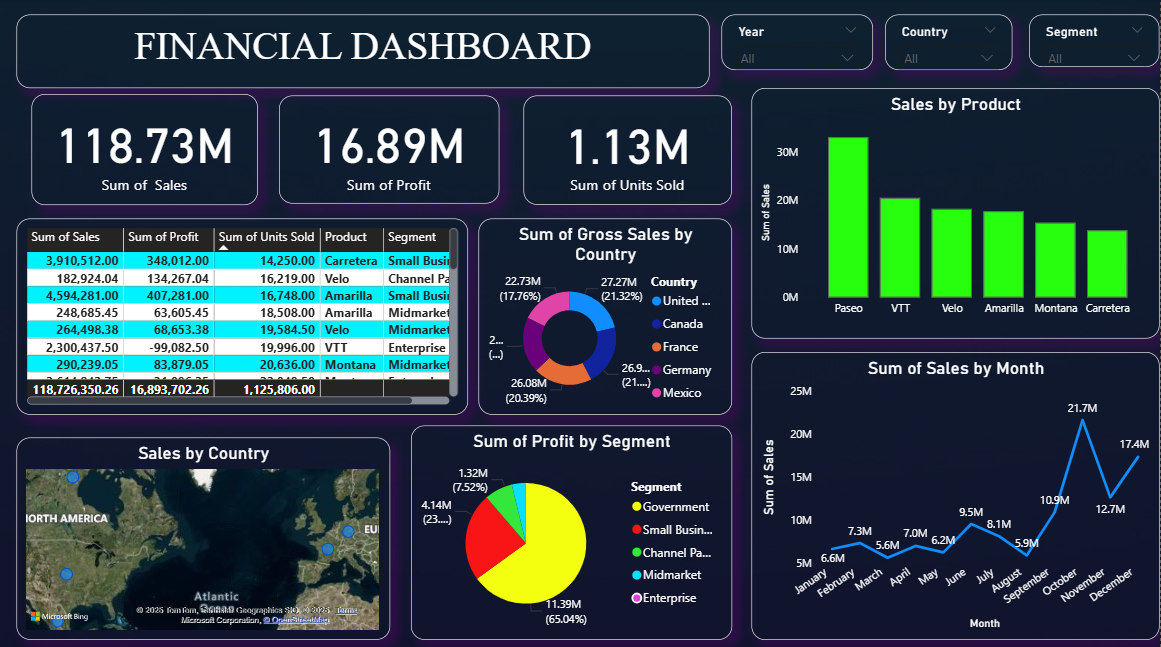

What the dashboard file says about the page in this screenshot:
{"tool":"powerbi","page":{"name":"Page 1","canvas":[1280,720],"ordinal":0},"visuals":[{"type":"textbox","box":[18.2,18.2,765.3,81.2],"z":0},{"type":"card","fields":{"Values":["Sum(financials. Sales)"]},"box":[34.8,106,250.1,122.6],"z":1000},{"type":"card","fields":{"Values":["Sum(financials.Profit)"]},"box":[308.1,107.7,243.5,119.3],"z":2000},{"type":"card","fields":{"Values":["Sum(financials.Units Sold)"]},"box":[578.1,107.7,230.3,120.9],"z":3000},{"type":"clusteredColumnChart","title":"Sales by Product","fields":{"Y":["Sum(financials. Sales)"],"Category":["financials.Product"]},"box":[829.9,99.4,450.6,276.6],"z":4000},{"type":"lineChart","fields":{"Y":["Sum(financials. Sales)"],"Category":["financials.Date.Variation.Date Hierarchy.Month"]},"box":[829.9,390.9,450.6,318],"z":5000},{"type":"pieChart","fields":{"Y":["Sum(financials.Profit)"],"Category":["financials.Segment"]},"box":[453.9,472.1,354.5,236.9],"z":6000},{"type":"map","title":"Sales by Country","fields":{"Size":["Sum(financials. Sales)"],"Category":["financials.Country"]},"box":[18.2,485.3,412.5,223.6],"z":7000},{"type":"tableEx","fields":{"Values":["Sum(financials. Sales)","Sum(financials.Profit)","Sum(financials.Units Sold)","financials.Product","financials.Segment"]},"box":[18.2,243.5,498.6,217],"z":8000},{"type":"slicer","fields":{"Values":["financials.Year"]},"box":[796.8,18.2,167.3,61.3],"z":9000},{"type":"slicer","fields":{"Values":["financials.Country"]},"box":[977.3,18.2,140.8,61.3],"z":10000},{"type":"slicer","fields":{"Values":["financials.Segment"]},"box":[1136.3,18.2,144.1,58],"z":11000},{"type":"donutChart","fields":{"Y":["Sum(financials.Gross Sales)"],"Category":["financials.Country"]},"box":[528.4,243.5,279.9,217],"z":12000}]}

Visuals, with their boxes in screenshot pixels (x1, y1, x2, y2), scaled from the page's 1280x720 canvas onto the 1161x647 screenshot:
textbox: [x1=17, y1=16, x2=711, y2=89]
card - Sum(financials. Sales): [x1=32, y1=95, x2=258, y2=205]
card - Sum(financials.Profit): [x1=279, y1=97, x2=500, y2=204]
card - Sum(financials.Units Sold): [x1=524, y1=97, x2=733, y2=205]
"Sales by Product" clusteredColumnChart: [x1=753, y1=89, x2=1160, y2=338]
lineChart - Sum(financials. Sales) x financials.Date.Variation.Date Hierarchy.Month: [x1=753, y1=351, x2=1160, y2=637]
pieChart - Sum(financials.Profit) x financials.Segment: [x1=412, y1=424, x2=733, y2=637]
"Sales by Country" map: [x1=17, y1=436, x2=391, y2=637]
tableEx - Sum(financials. Sales) x Sum(financials.Profit): [x1=17, y1=219, x2=469, y2=414]
slicer - financials.Year: [x1=723, y1=16, x2=874, y2=71]
slicer - financials.Country: [x1=886, y1=16, x2=1014, y2=71]
slicer - financials.Segment: [x1=1031, y1=16, x2=1160, y2=68]
donutChart - Sum(financials.Gross Sales) x financials.Country: [x1=479, y1=219, x2=733, y2=414]
